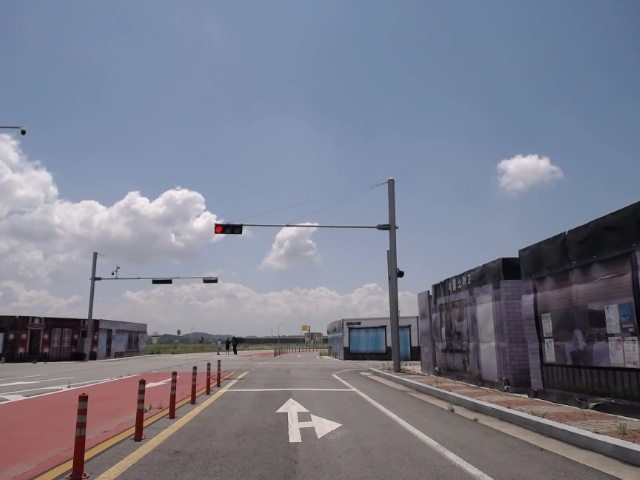red_3: (215, 223, 242, 234)
